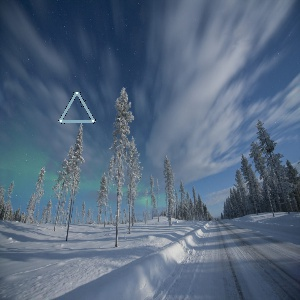triangle: (56, 90, 97, 125)
